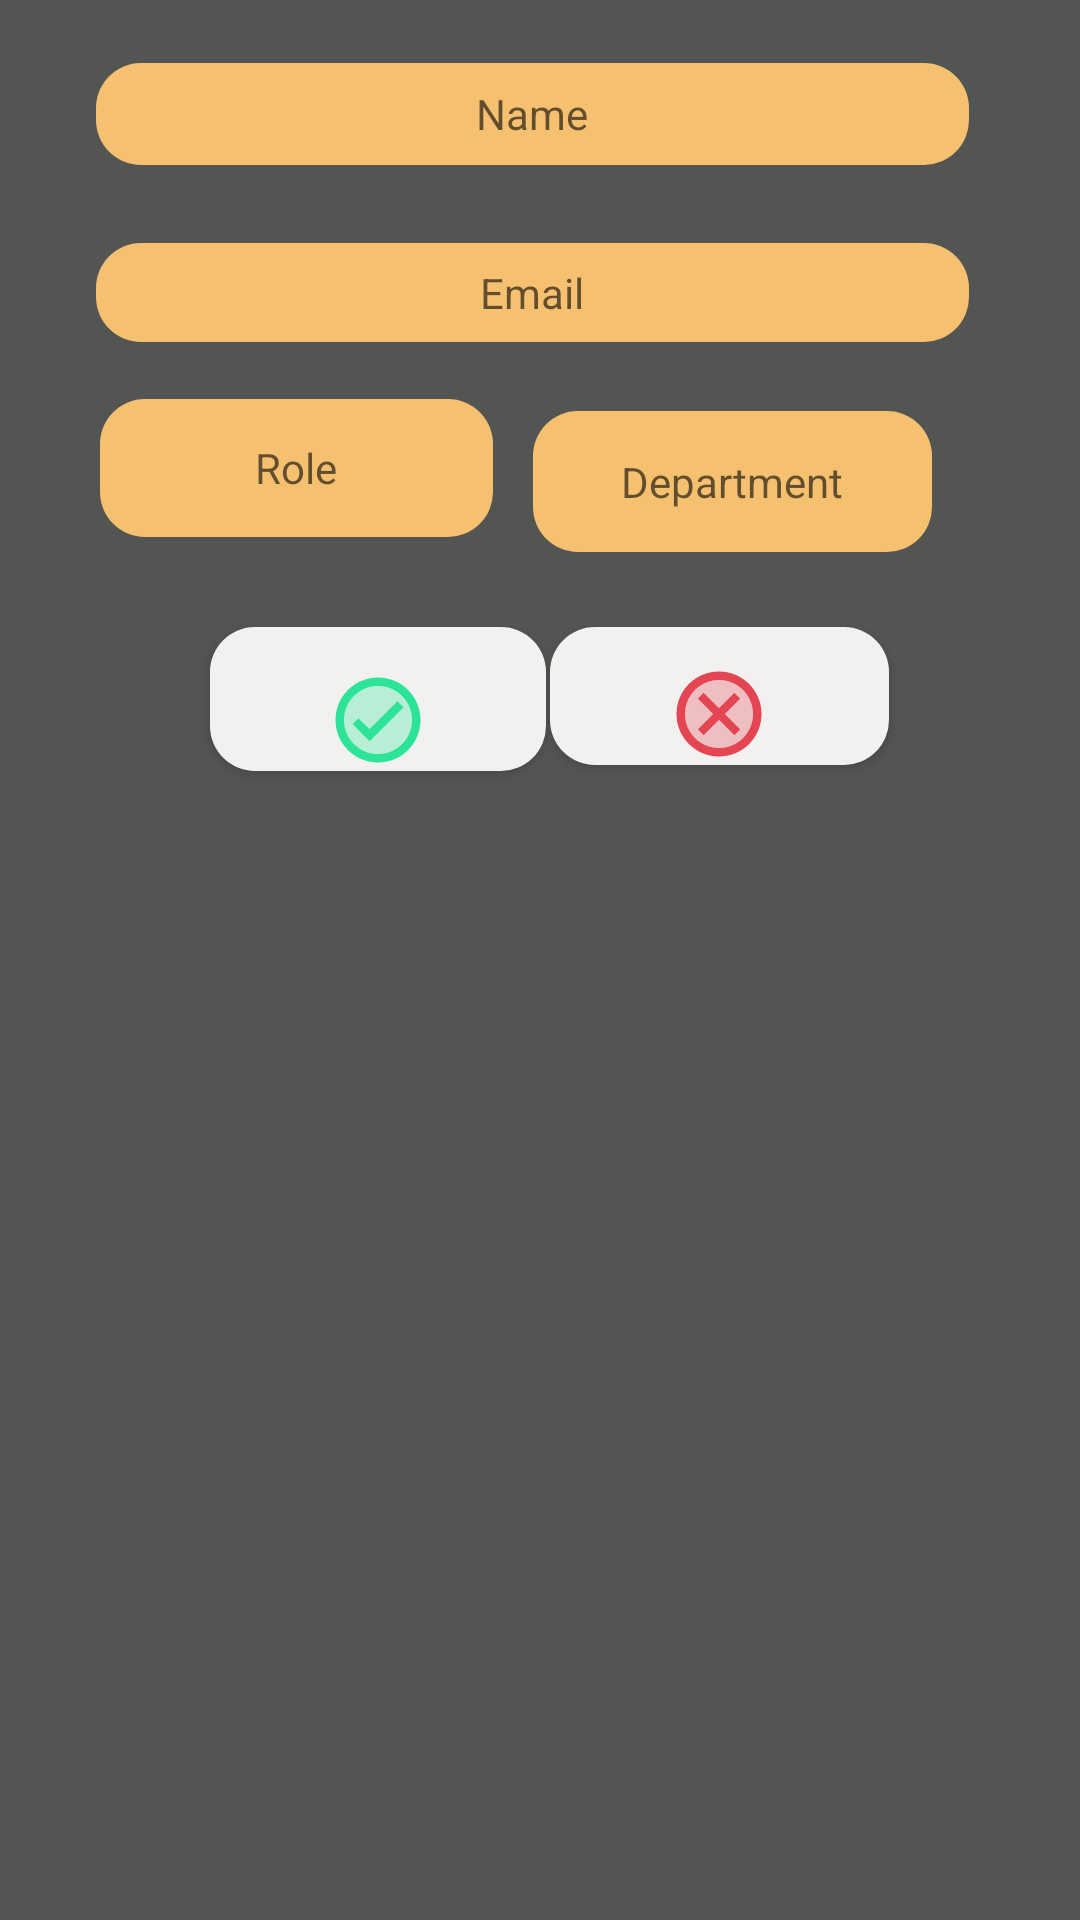

Icons on this 1080×1920 Android screen, each with its box as (left=x1, top=y1, right=x2, bottom=y2):
reject: (left=550, top=627, right=889, bottom=765)
